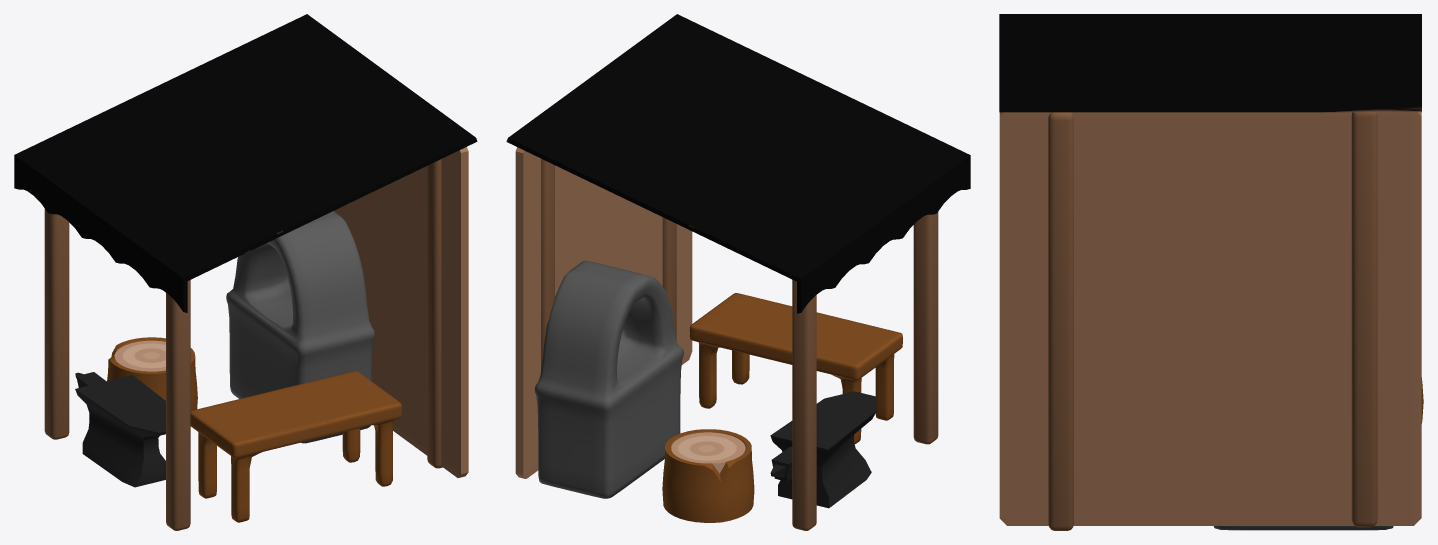
Rendered from Demirci.fbx.
The picture shows the model from 3 angles, left to right: view 1: azimuth 30°, elevation 25°; view 2: azimuth 150°, elevation 25°; view 3: azimuth 270°, elevation 25°; orthographic projection. The views are drawn at different scales.
Parts seen in each view (by area): view 1: Plane, Cube.016, Cube.019, Cube.037, Cube, Cube.012, Cube.011, Cube.013, Cylinder; view 2: Plane, Cube.019, Cube.016, Cube.037, Cylinder, Cube, Cube.011, Cube.012, Cube.014, Cube.013; view 3: Cube.016, Plane, Cube.014, Cube.013, Cube.019.
Part boxes in pixels (x1,y1,x2,y2): Plane: (14, 14, 477, 312); Cube.016: (334, 147, 468, 477); Cube.019: (226, 211, 374, 443); Cube.037: (190, 371, 401, 522); Cube: (75, 372, 165, 487); Cube.012: (44, 209, 69, 439); Cube.011: (166, 280, 190, 530); Cube.013: (427, 159, 442, 468); Cylinder: (107, 337, 197, 410); Plane: (506, 14, 970, 313); Cube.019: (534, 260, 683, 498); Cube.016: (515, 147, 692, 478); Cube.037: (689, 293, 902, 443); Cylinder: (662, 429, 754, 522); Cube: (770, 391, 876, 508); Cube.011: (913, 212, 938, 444); Cube.012: (792, 280, 816, 530); Cube.014: (541, 158, 554, 369); Cube.013: (662, 217, 676, 340); Cube.016: (999, 112, 1421, 525); Plane: (999, 14, 1421, 112); Cube.014: (1351, 112, 1377, 527); Cube.013: (1048, 112, 1073, 530); Cube.019: (1213, 526, 1393, 530).
Size of the model in its own units: 3299 by 3744 by 3283.
1 material, 1 textured.
